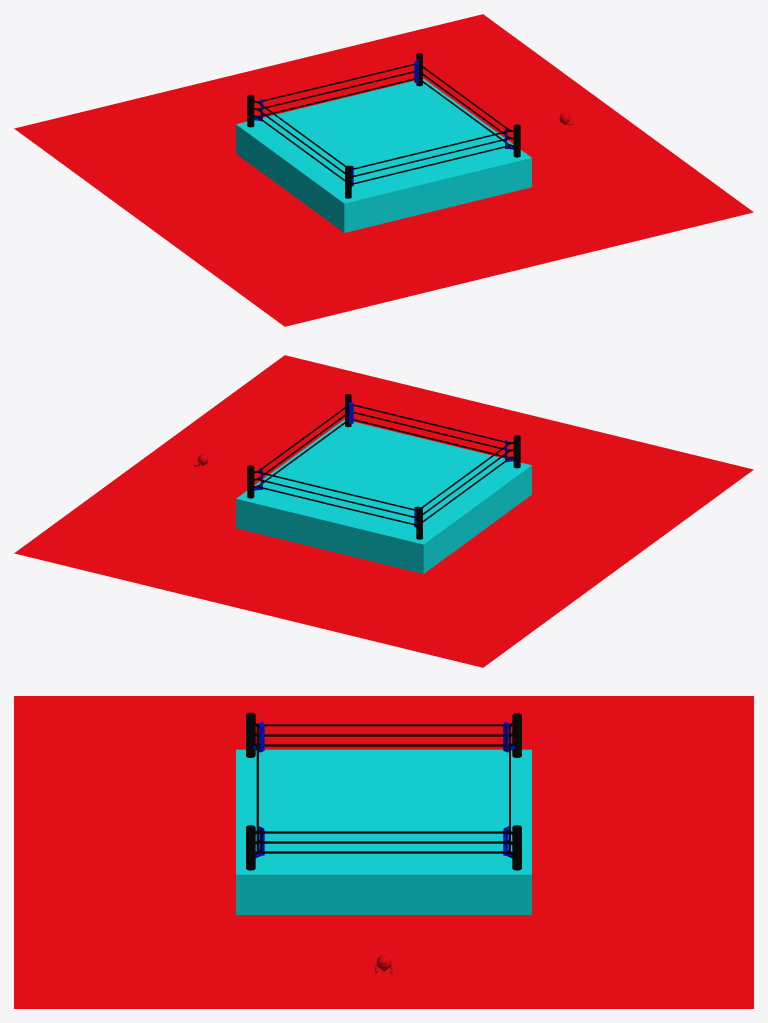
Rendered from Boxing-Ring.dae.
3 views of the same model, one above another, from view 1: azimuth 30°, elevation 25°; view 2: azimuth 150°, elevation 25°; view 3: azimuth 270°, elevation 25° (orthographic). The views are drawn at different scales.
Visible parts, largest first — view 1: Plane.001, Boxing Ring, Cylinder.004, Cylinder.014, Cylinder.005, Plane; view 2: Plane, Plane.001, Boxing Ring, Cylinder.004, Cylinder.014, Cylinder.005; view 3: Plane.001, Plane, Boxing Ring, Cylinder.004, Cylinder.005, Cylinder.014.
Part boxes in pixels (bbox=[...]): Plane.001: bbox=[14, 14, 753, 326]; Boxing Ring: bbox=[236, 78, 531, 232]; Cylinder.004: bbox=[254, 61, 513, 169]; Cylinder.014: bbox=[254, 68, 513, 177]; Cylinder.005: bbox=[254, 76, 513, 184]; Plane: bbox=[204, 15, 621, 126]; Plane: bbox=[14, 355, 753, 667]; Plane.001: bbox=[28, 355, 701, 667]; Boxing Ring: bbox=[236, 419, 531, 573]; Cylinder.004: bbox=[254, 402, 513, 510]; Cylinder.014: bbox=[254, 409, 513, 518]; Cylinder.005: bbox=[254, 417, 513, 525]; Plane.001: bbox=[14, 696, 753, 1008]; Plane: bbox=[14, 696, 753, 1008]; Boxing Ring: bbox=[236, 749, 531, 914]; Cylinder.004: bbox=[253, 722, 514, 834]; Cylinder.005: bbox=[253, 742, 514, 854]; Cylinder.014: bbox=[253, 732, 514, 844].
Size of the model in its own units: 100 by 100 by 12.34.
